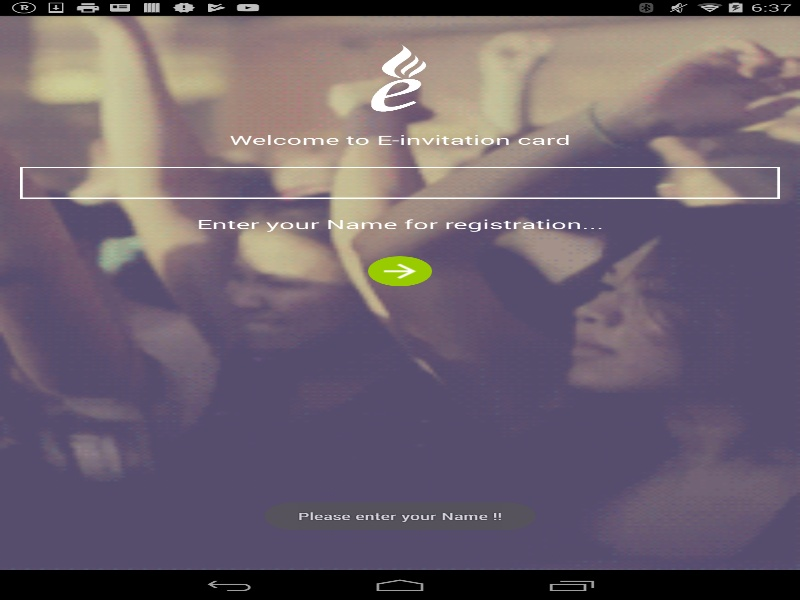Input: (20, 166, 780, 198)
